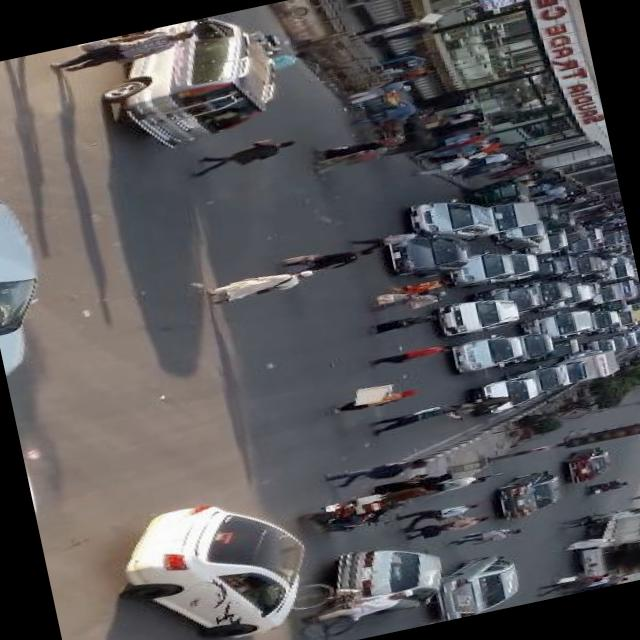bus: (616, 307, 640, 328)
car: (103, 482, 332, 640), (84, 7, 294, 166), (0, 162, 65, 383), (332, 533, 452, 624), (422, 547, 537, 623), (383, 224, 478, 286), (429, 291, 526, 342), (494, 464, 578, 522), (440, 330, 534, 380), (442, 245, 521, 294), (466, 374, 546, 418), (472, 280, 546, 324), (487, 244, 552, 286), (562, 443, 622, 485), (514, 360, 572, 400), (500, 330, 560, 368), (494, 217, 552, 254), (522, 228, 572, 260), (560, 236, 598, 258), (586, 337, 620, 357), (610, 334, 635, 354), (586, 226, 608, 244)
motorcycle: (471, 176, 534, 212), (512, 256, 568, 286), (529, 338, 583, 363), (586, 476, 634, 496), (560, 220, 592, 246), (548, 211, 582, 232), (538, 202, 564, 224), (598, 298, 631, 314)
truck: (562, 499, 640, 589), (523, 306, 597, 347), (550, 348, 624, 388), (516, 275, 576, 313), (536, 280, 599, 314), (572, 305, 626, 338), (583, 278, 640, 308), (557, 252, 610, 282), (586, 228, 629, 255), (596, 262, 638, 286), (609, 254, 630, 266), (629, 327, 640, 347)
